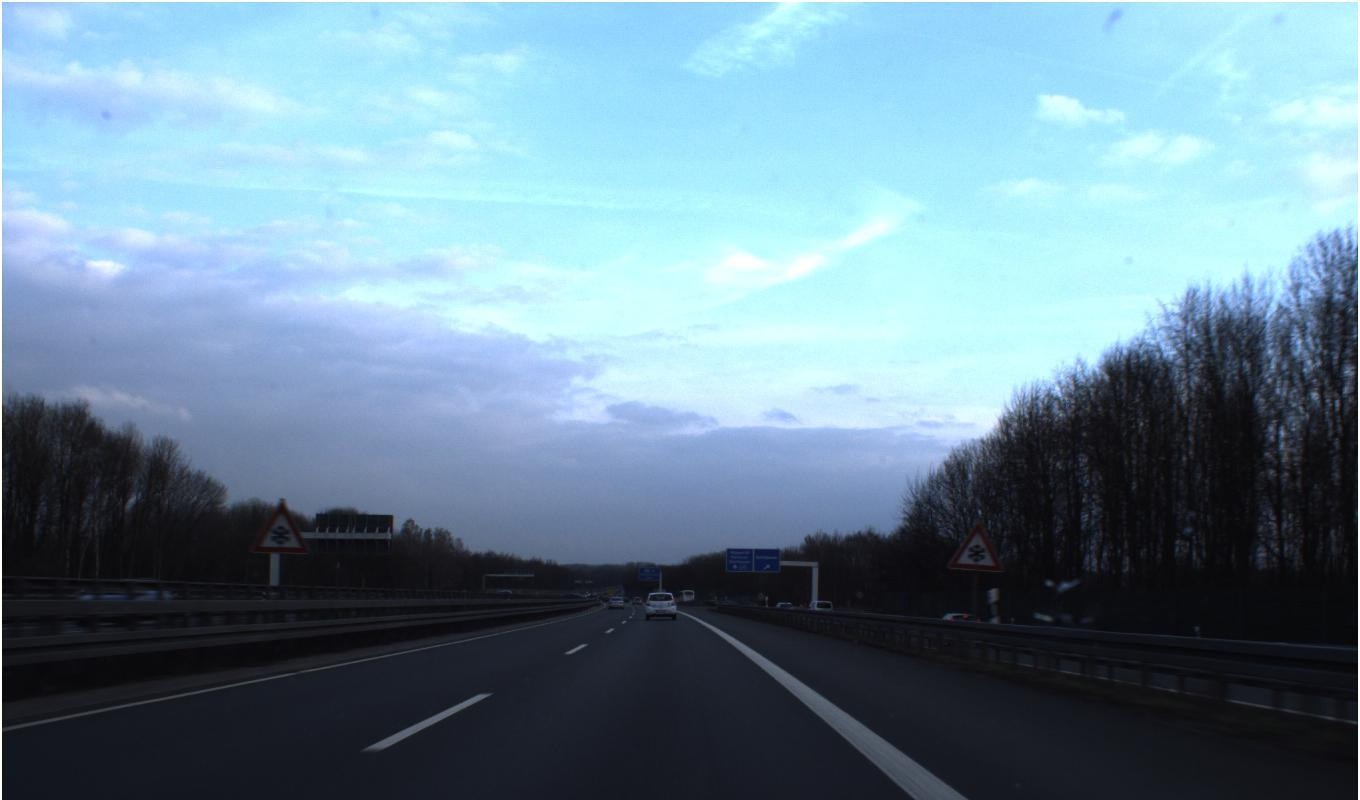danger: (249, 499, 310, 555), (946, 520, 1004, 573)
